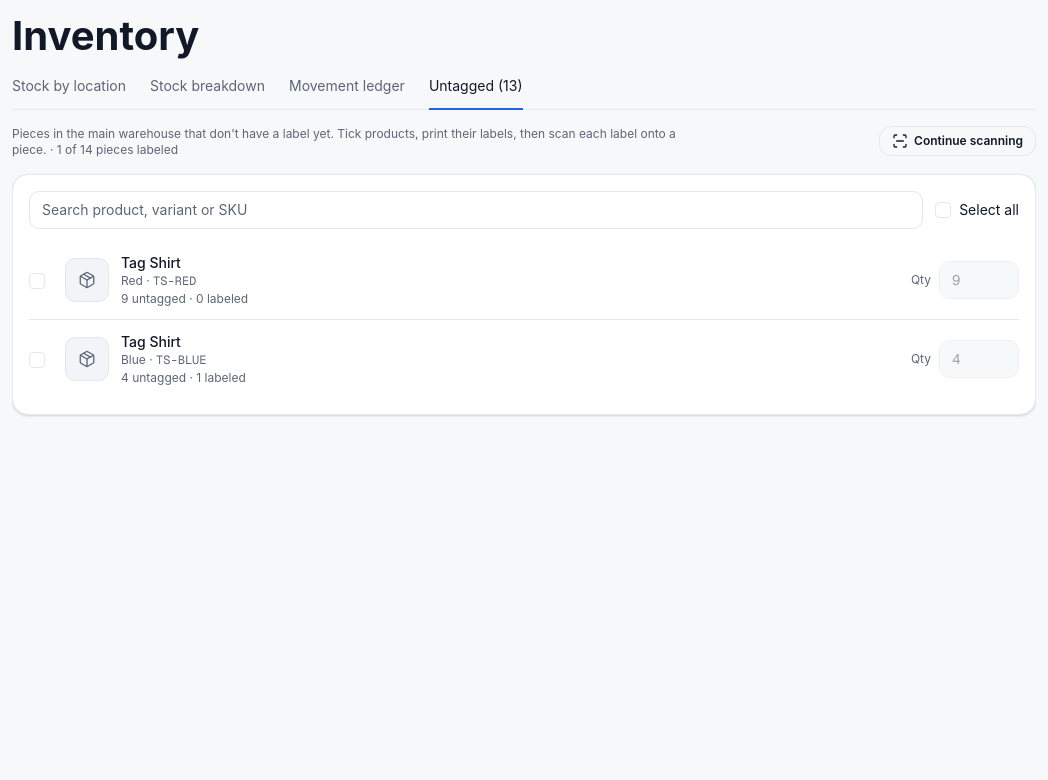
Test: Tag stock › tg1 — list, choose a product, print N labels, go to the scan loop
This screenshot has width=1048, height=780.
Expected: the button "Untagged (13)" is shown, [429,76,522,110]
Expected: the list item "Tag Shirt Red · TS-RED 9 untagged · 0 labeled Qty" is shown, [29,241,1019,319]
Click the checkbox in the row of "TS-BLUE": (41, 359) [29,350,53,368]
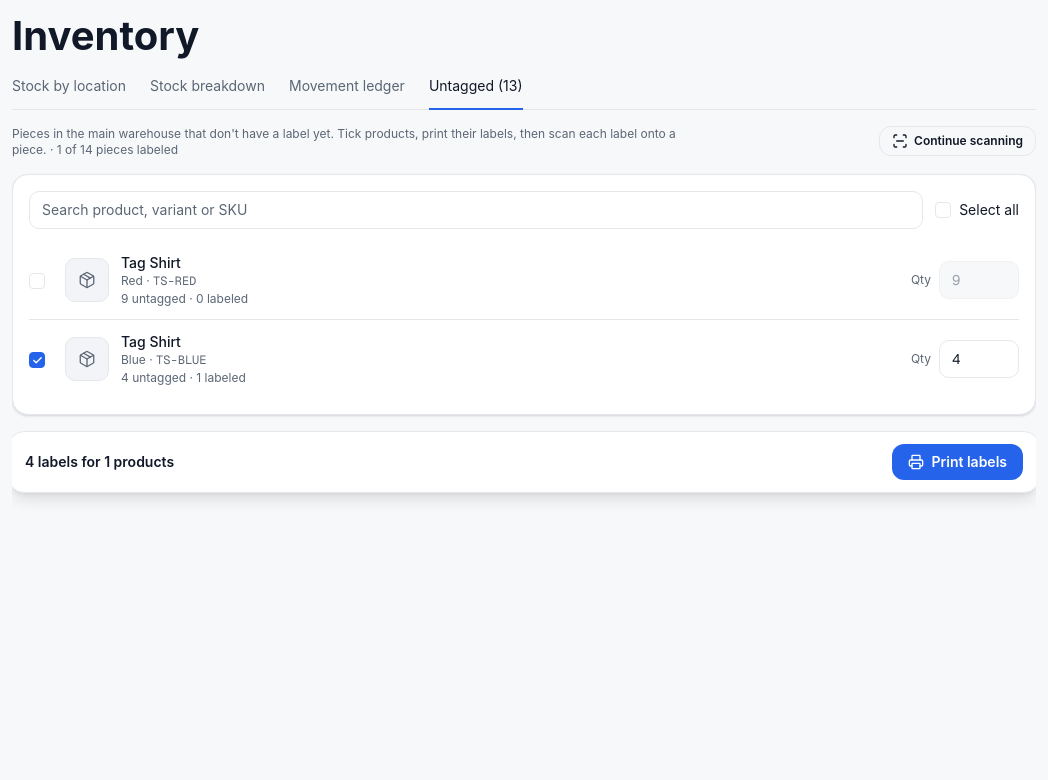
Expected: the field with test id "untagged-qty-v-blue" holds "4"
In the field with test id "untagged-qty-v-blue": (979, 359) [939,340,1019,378], type "7"
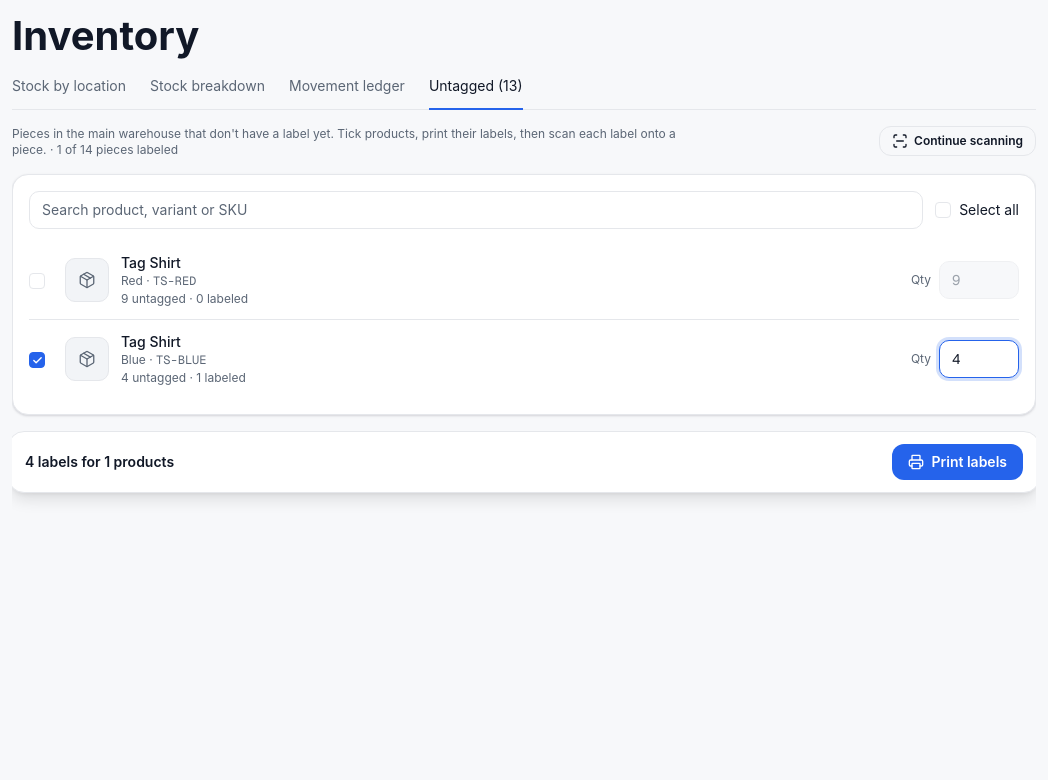
In the field with test id "untagged-qty-v-blue": (979, 359) [939,340,1019,378], type "3"
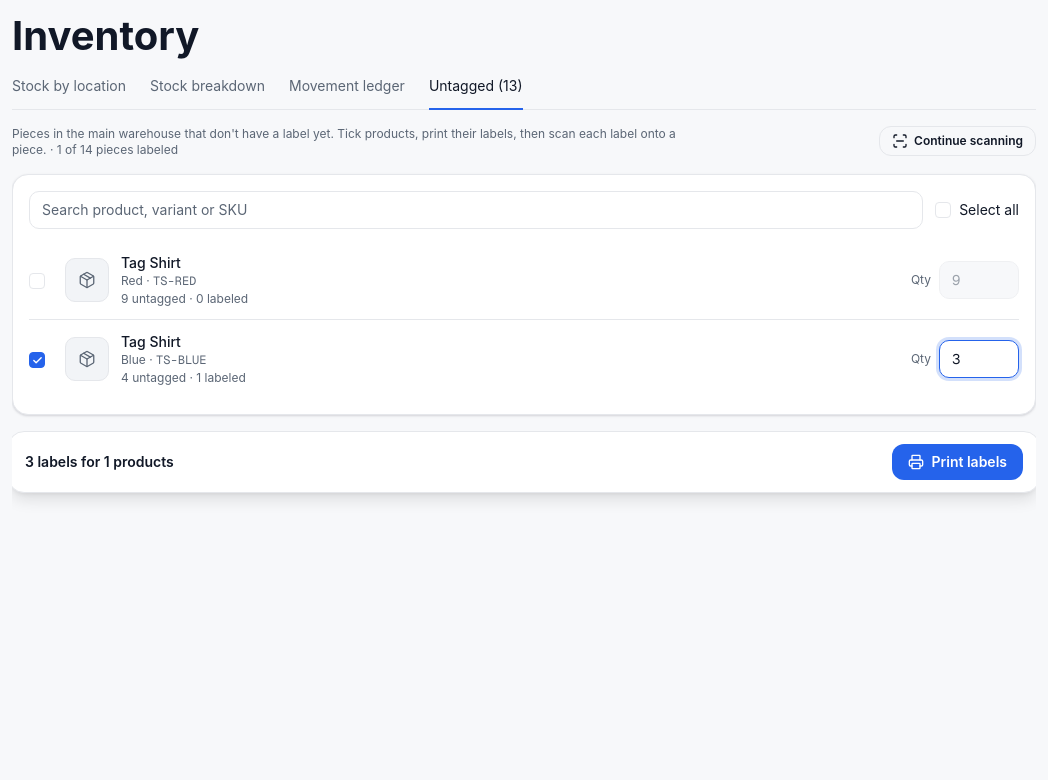
Click the button "Print labels": (957, 462) [892,444,1023,480]
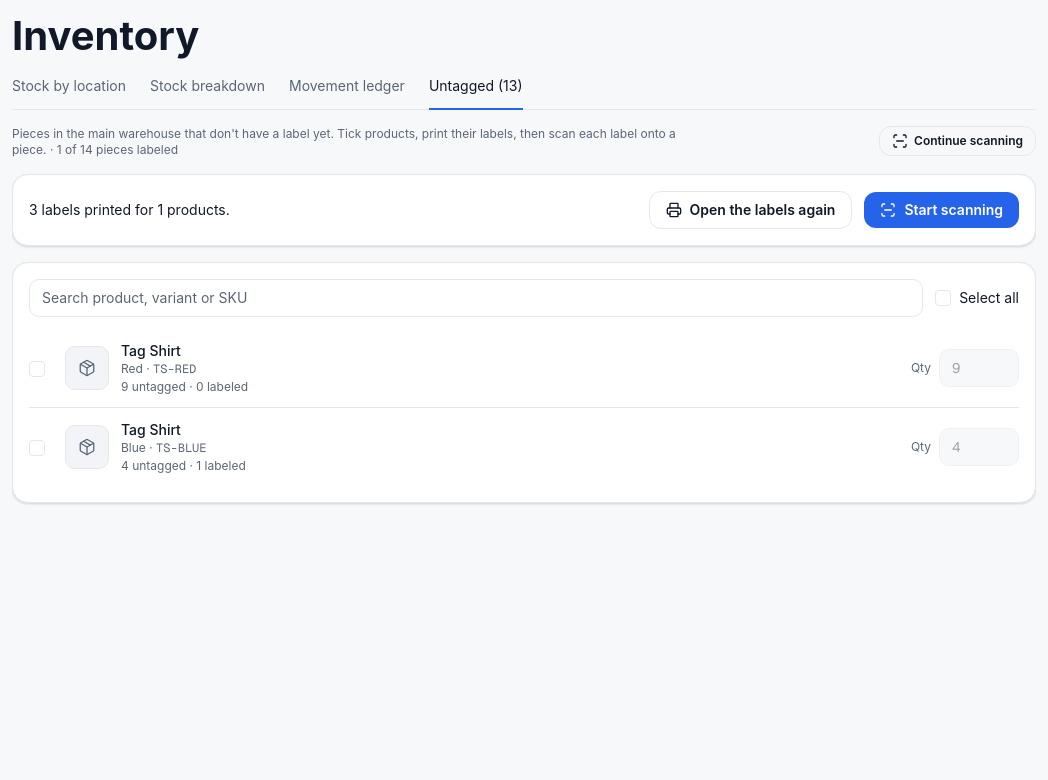
Click the button "Start scanning": (942, 210) [864,192,1019,228]
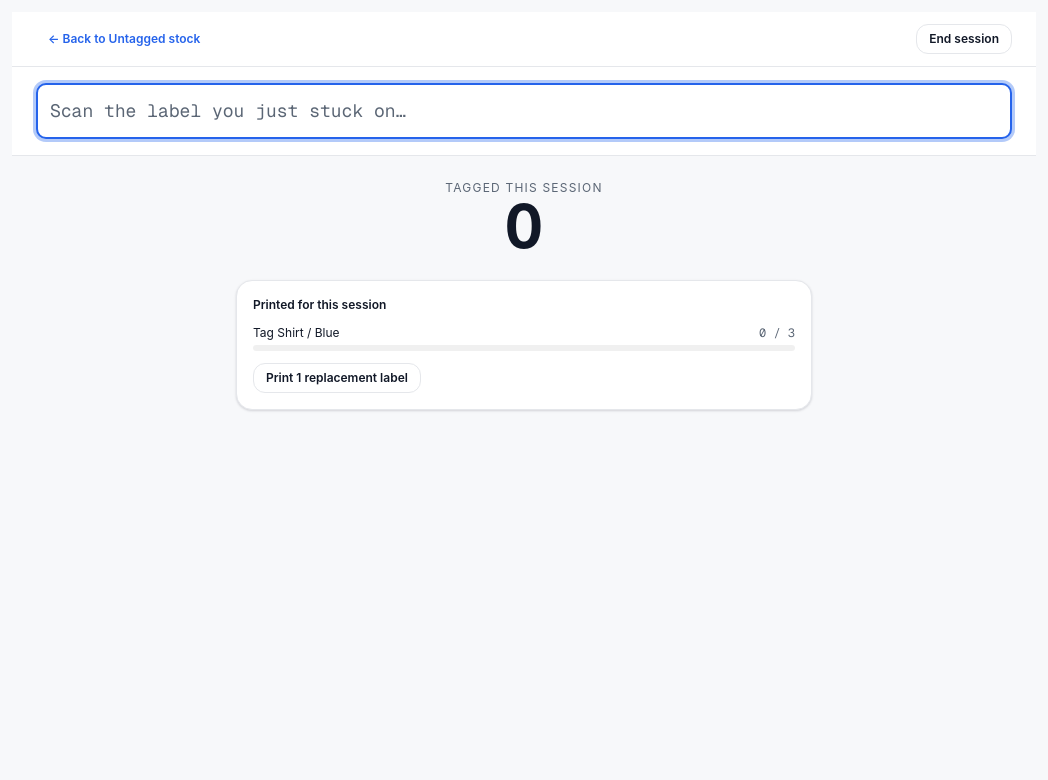
Expected: the element with test id "tag-stock-scan" is shown
